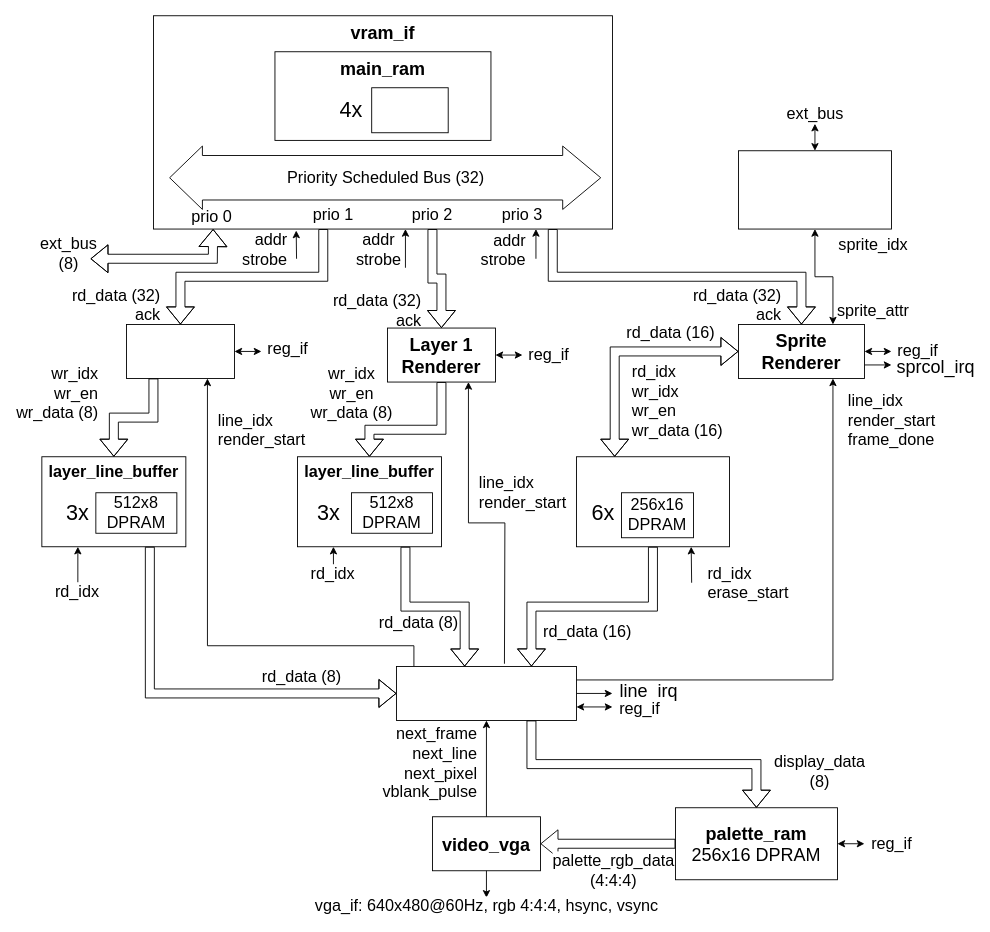
The diagram is 990 pixels wide and 932 high, and some of its shapes have lost their labels. Here are the shapes that lost their labels. From the top down, the box of each, then its label:
(371, 87, 448, 133): 16384x16 SPRAM
(738, 150, 891, 229): sprite_attr_ram 256x32 DPRAM
(126, 324, 234, 378): Layer 0 Renderer
(576, 456, 729, 547): sprite_line_buffer
(396, 666, 576, 720): Composer
